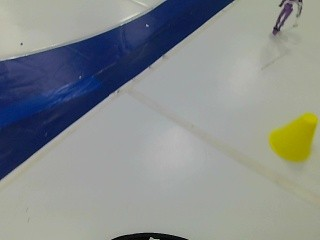cone: (267, 109, 319, 165)
pedestrian: (268, 0, 303, 36)
